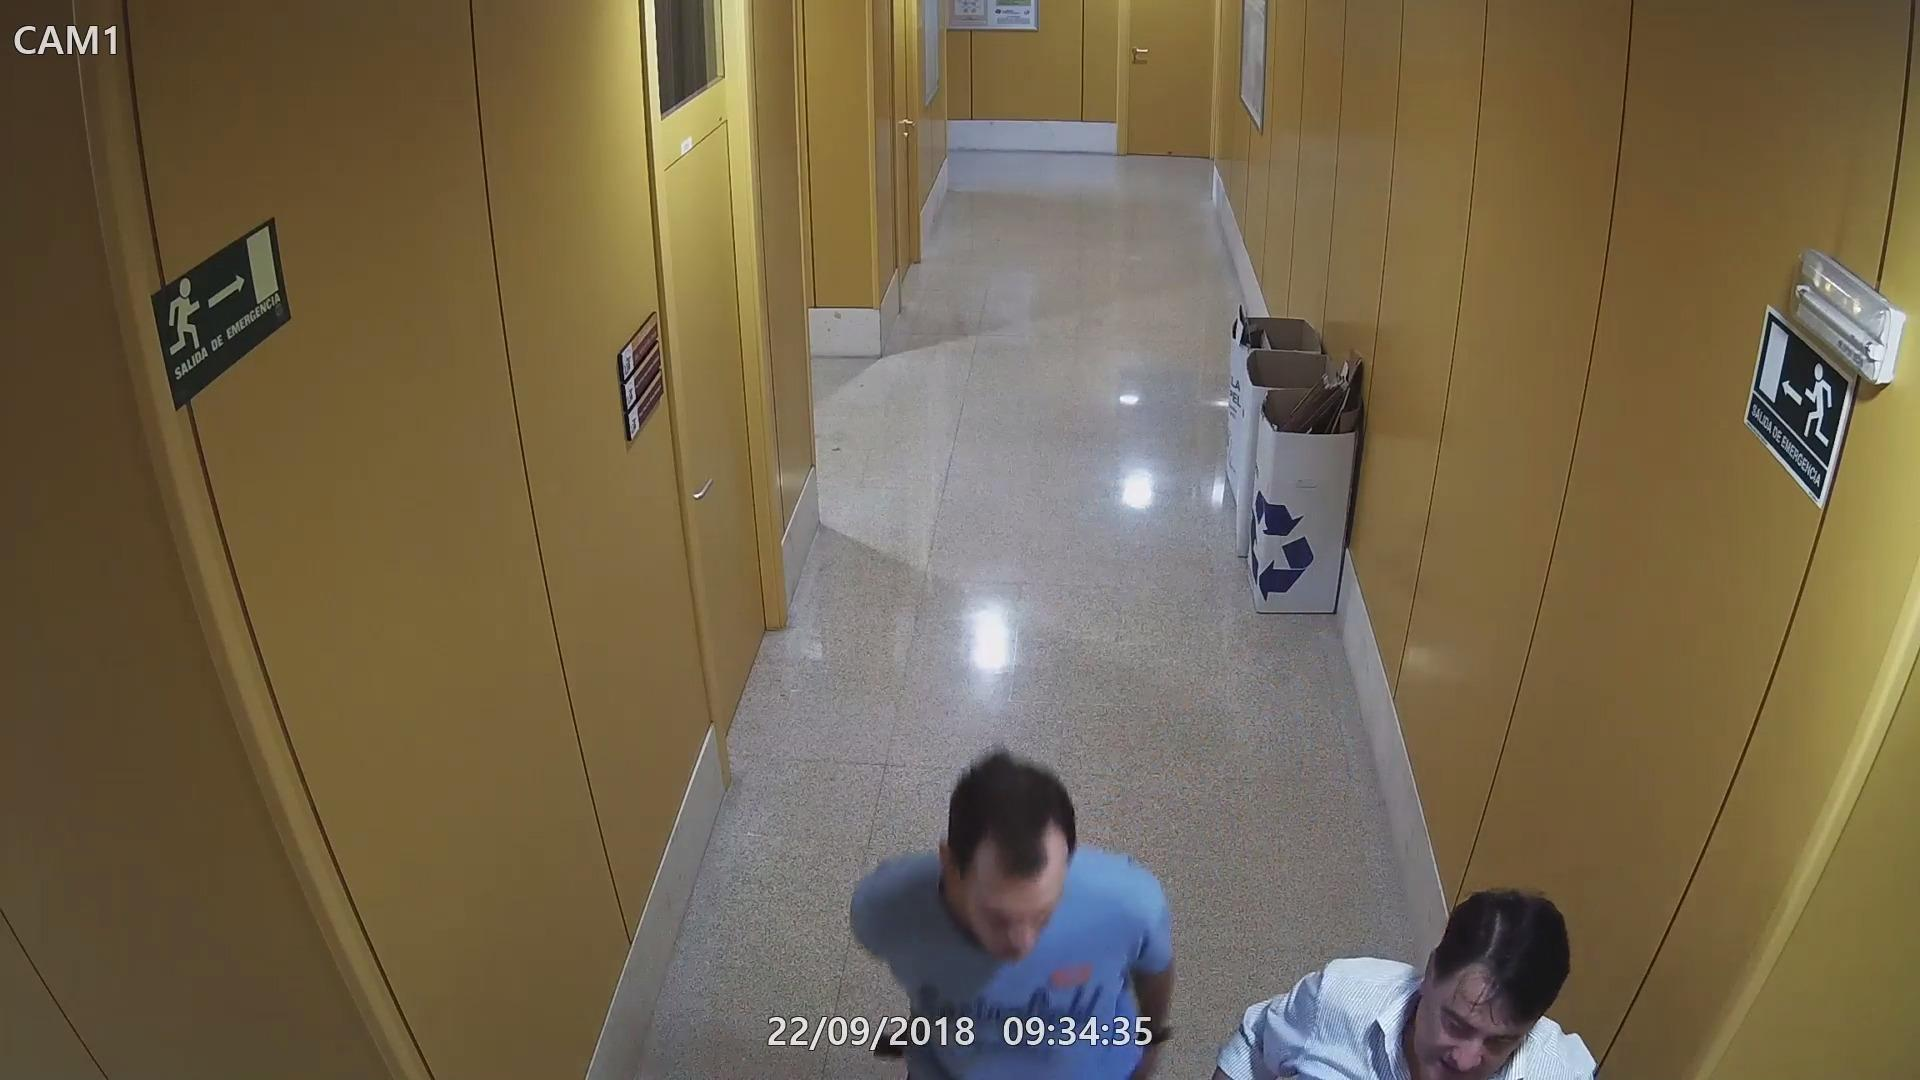Handgun: (862, 1034, 919, 1060)
